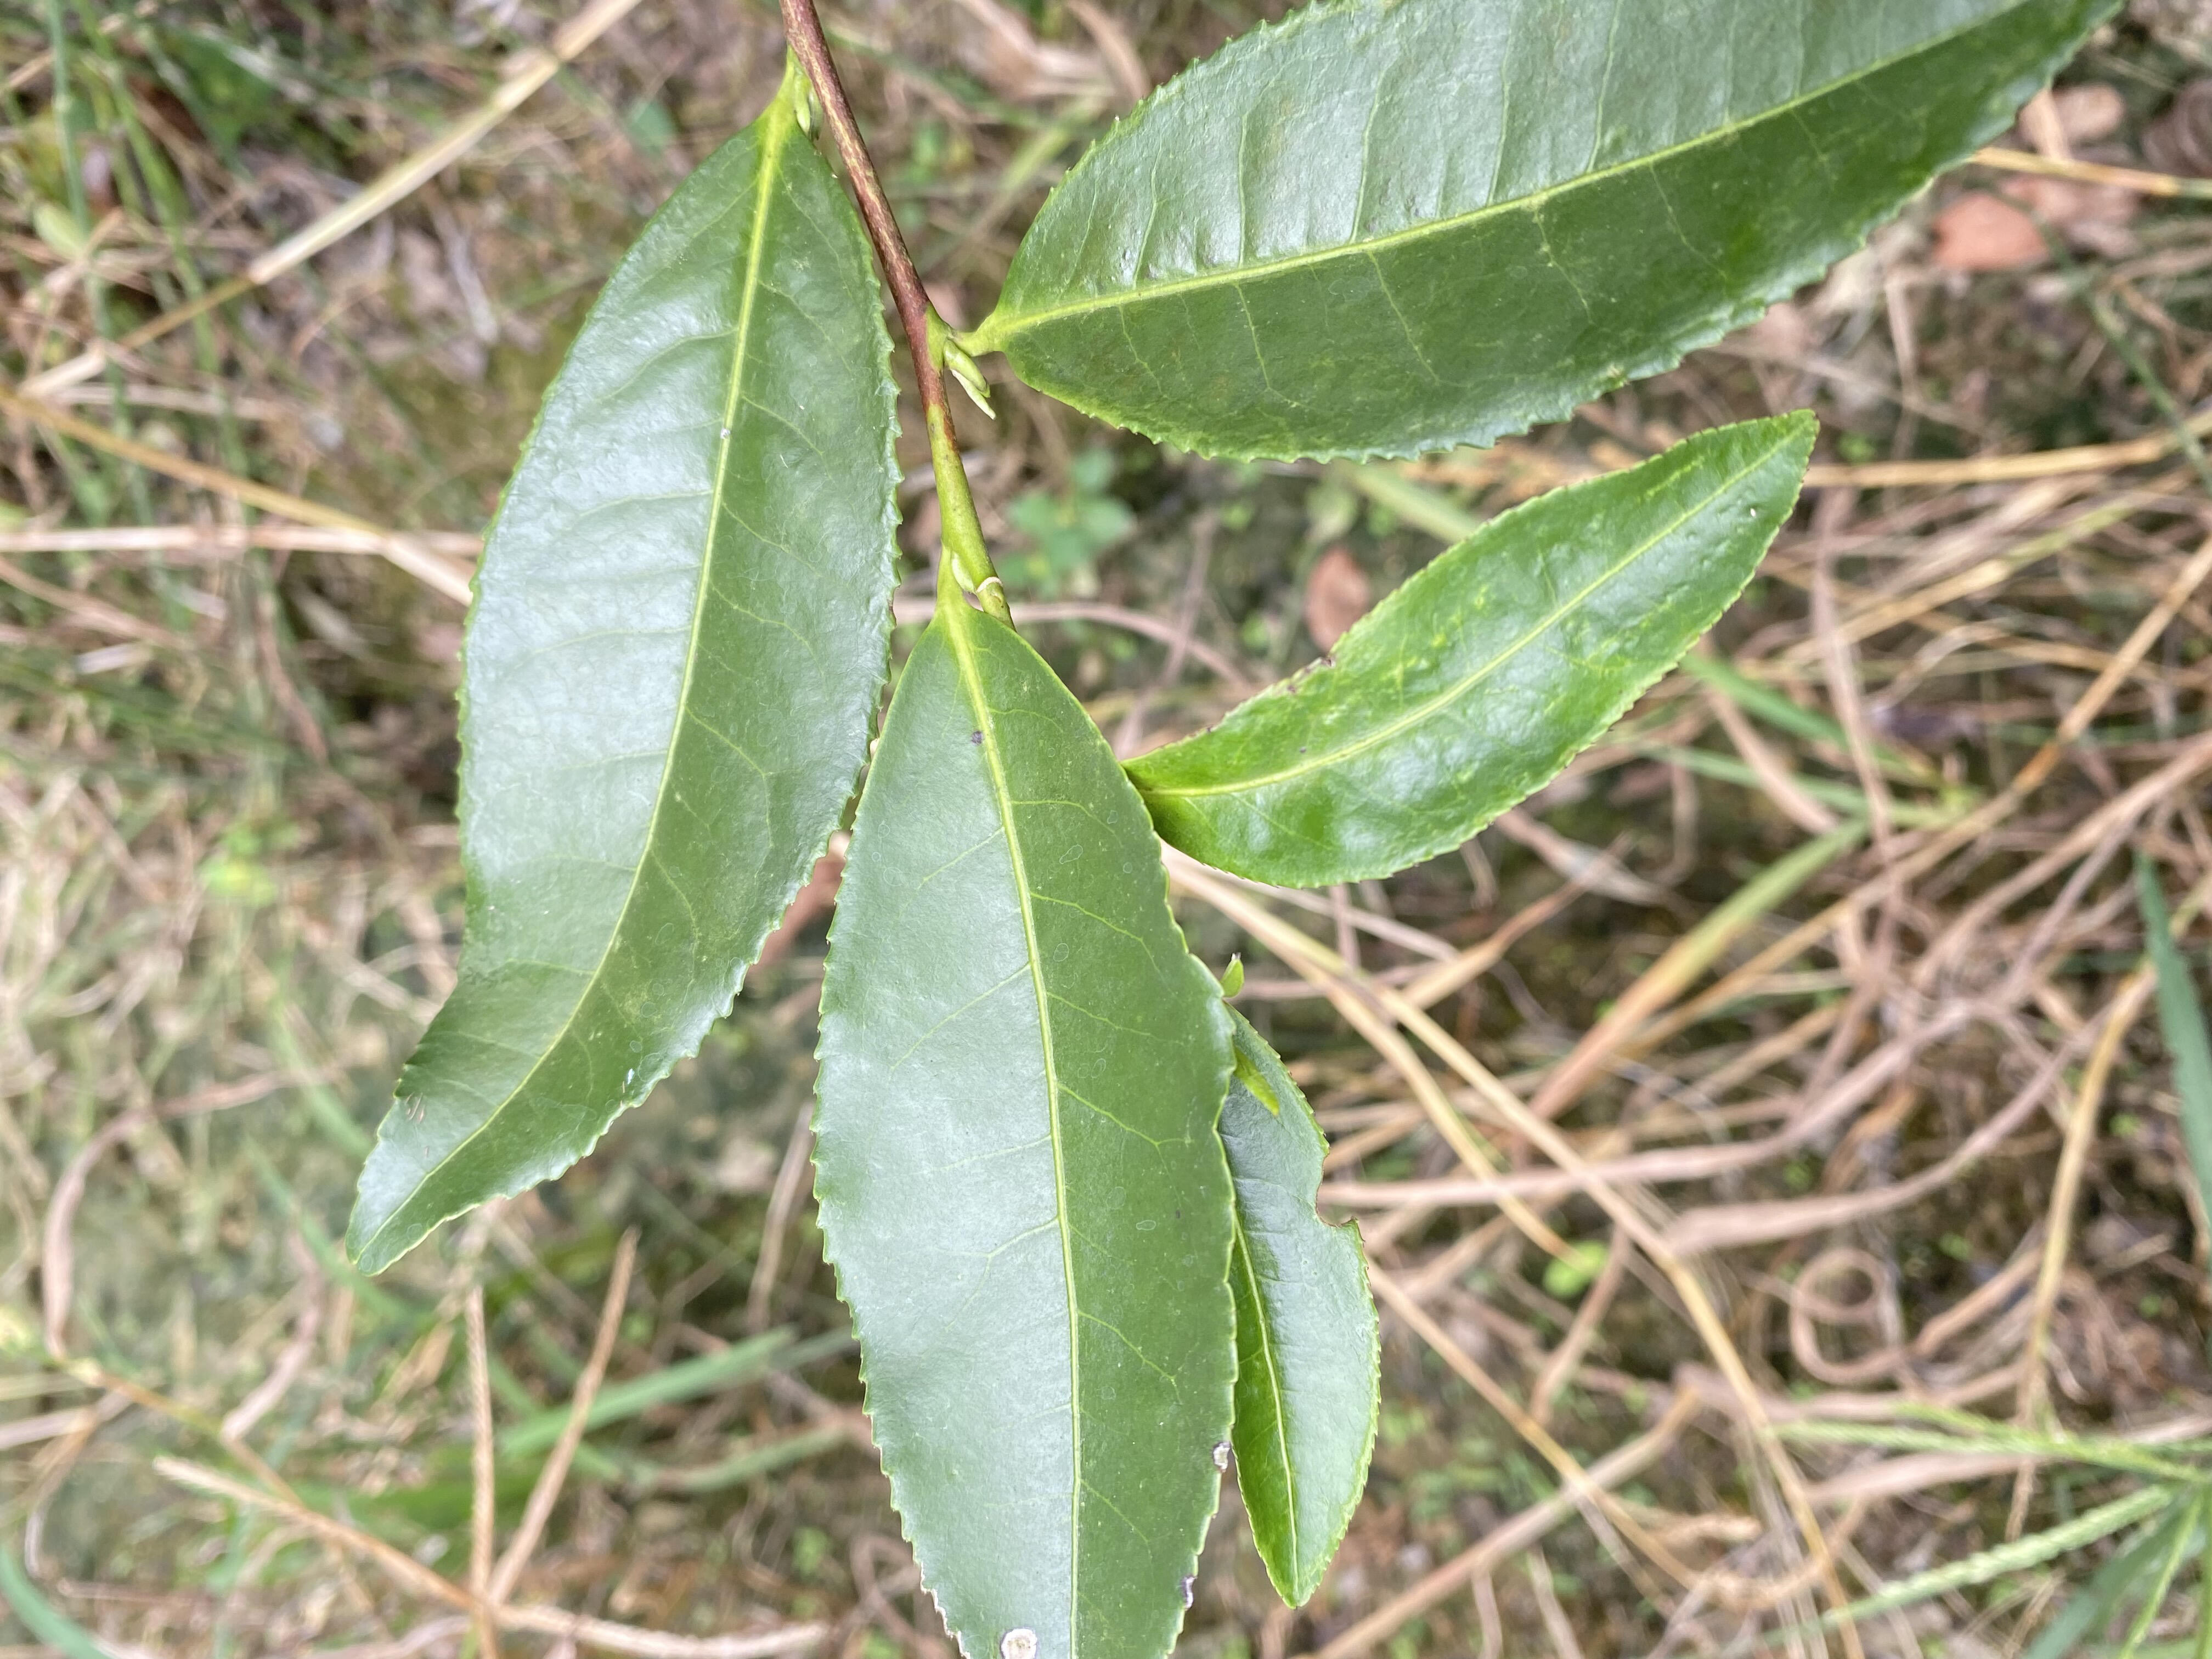chihuo_low: (1219, 1007, 1385, 1614)
healthy: (338, 98, 906, 1284), (995, 2, 2135, 464), (808, 592, 1240, 1605), (1116, 410, 1822, 880)
